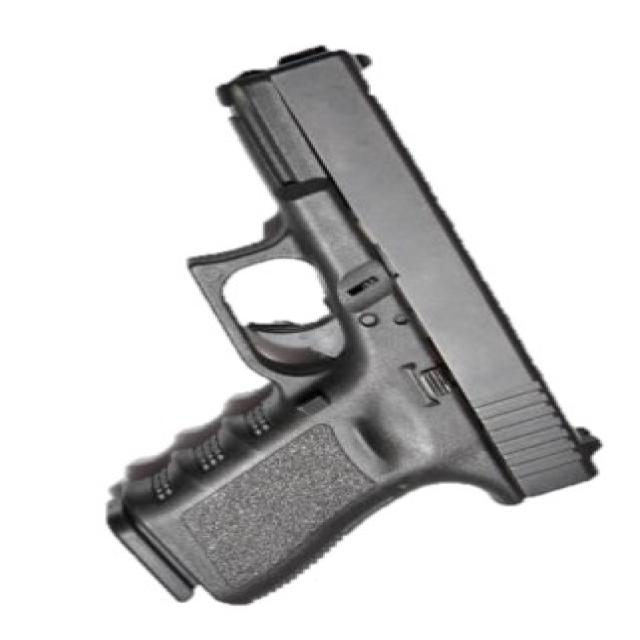pistol: (85, 32, 614, 607)
